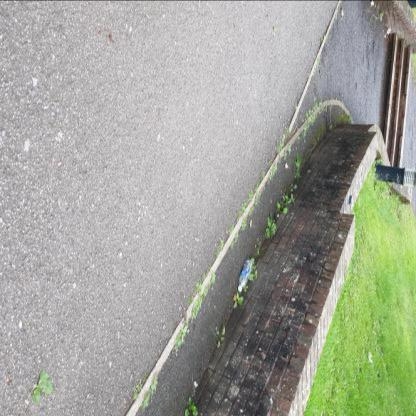Bottle: (238, 285, 242, 291)
Bottle cap: (238, 258, 253, 292)
Carton: (349, 195, 354, 208)
